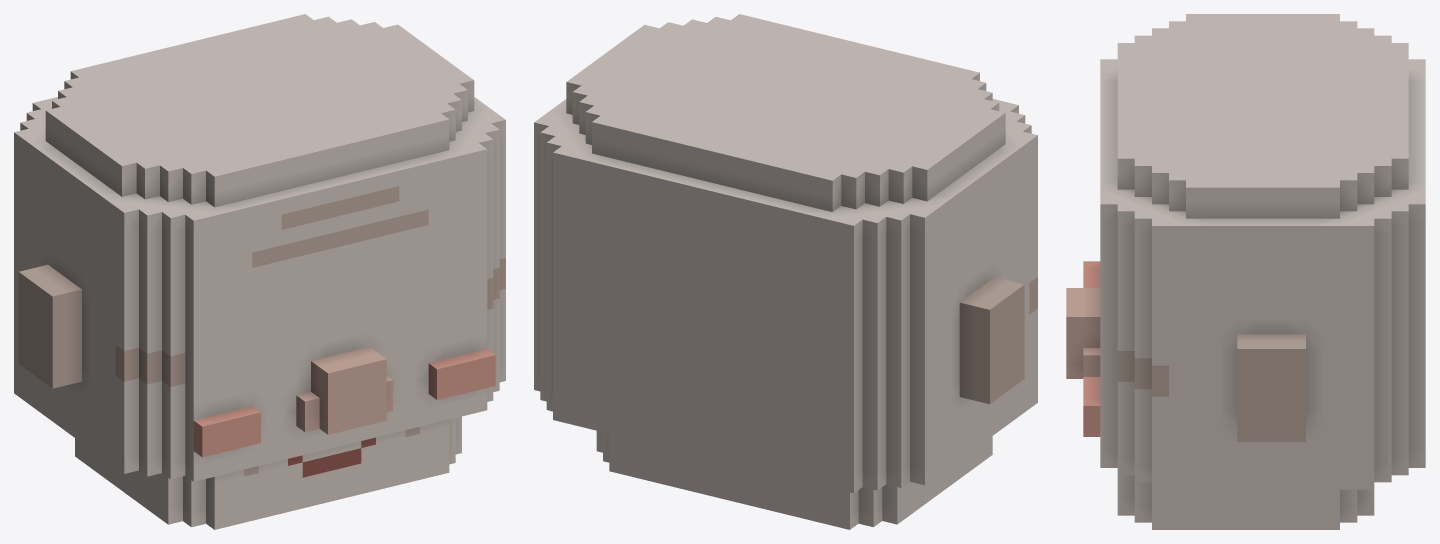
File: head_elder.glb
The picture shows the model from 3 angles, left to right: view 1: azimuth 30°, elevation 25°; view 2: azimuth 150°, elevation 25°; view 3: azimuth 270°, elevation 25°; orthographic projection. The views are drawn at different scales.
Visible parts, largest first — view 1: VoxelVisual; view 2: VoxelVisual; view 3: VoxelVisual.
Boxes of the visible parts, x1,y1,x2,y2 form: VoxelVisual: (14,14,505,529); VoxelVisual: (534,14,1037,529); VoxelVisual: (1066,14,1425,529).
Size of what is drawn, in the model's own units: 1.88 by 1.44 by 1.31.
